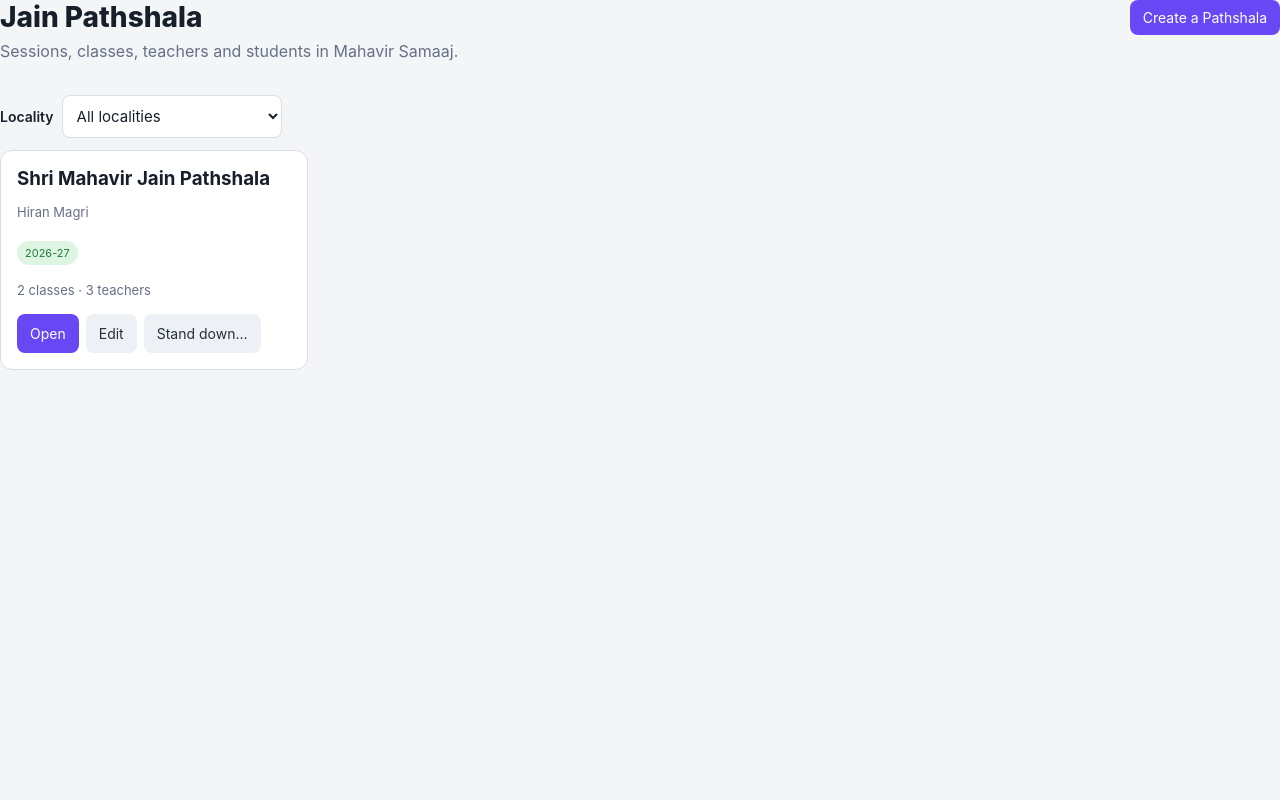
PathshalaListComponent › offers a Super Admin scoped into a Samaaj the create button, which opens the dialog
Click the button "Create a Pathshala". click: coordinates (1205, 18)
box: [1130,0,1279,35]
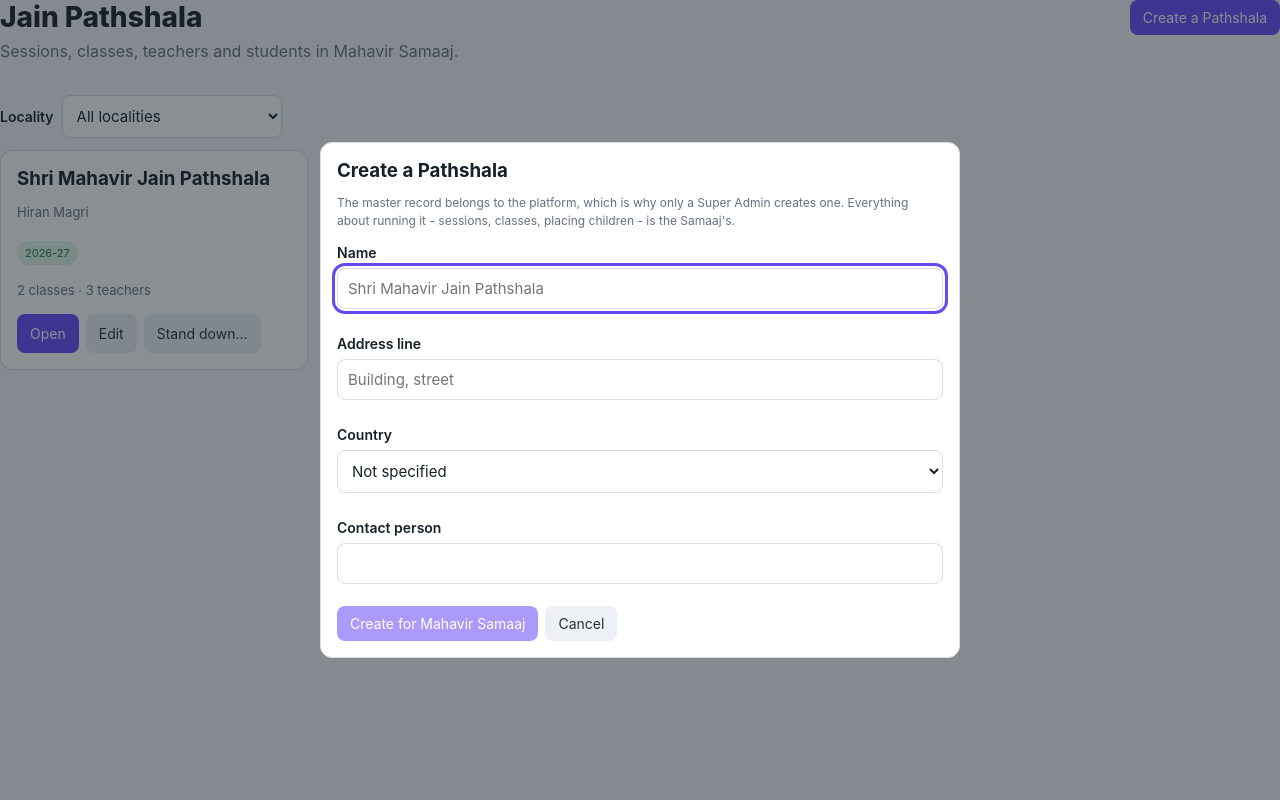
Now the dialog is shown, box [320,142,960,658]
